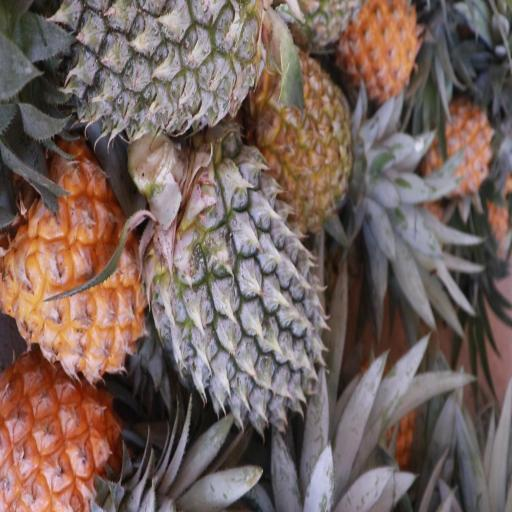------------------------------: (259, 49, 352, 216)
Pineapple - v8 v1: (4, 166, 145, 382), (0, 376, 131, 511), (345, 0, 420, 98), (420, 104, 490, 200)
